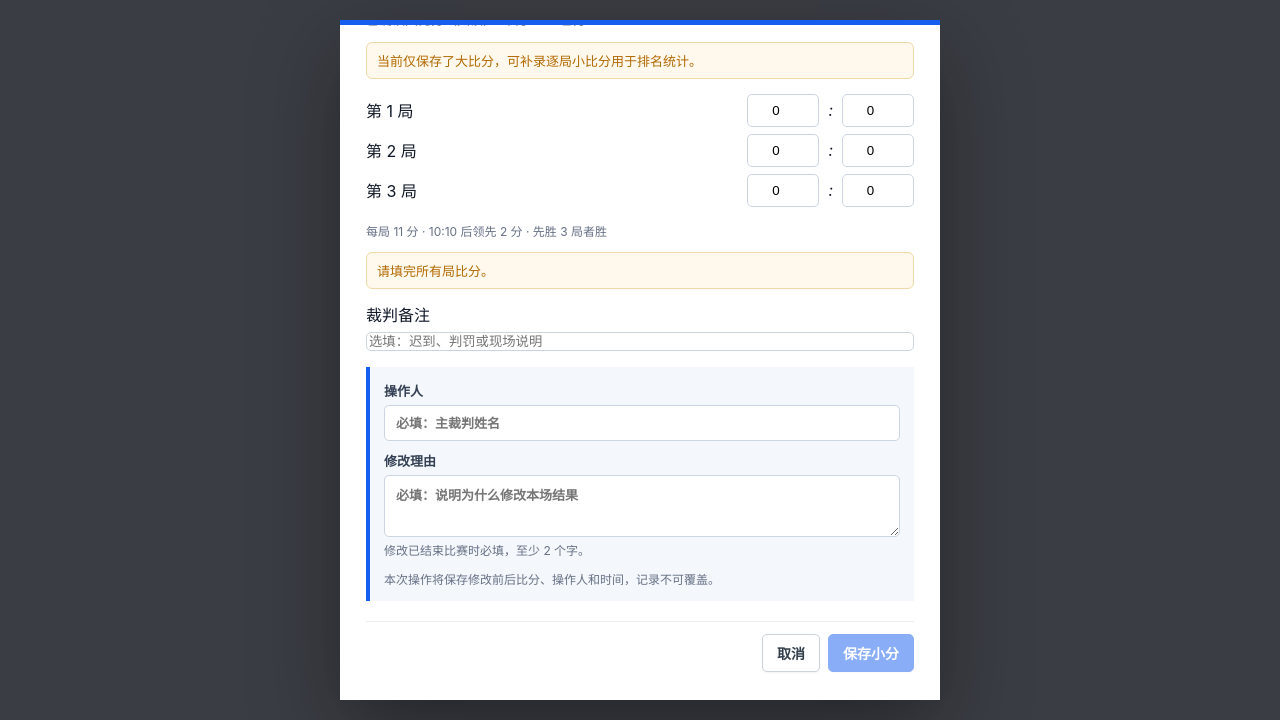
Test: 现场问题 C：修改理由必须让用户看懂“至少 2 个字” › 补录 / 修改逐局小分（detailMode）走同一条 revise 规则，提示与按钮名一致
(page scrolled)
Expected: the text "修改已结束比赛时必填，至少 2 个字。" is shown, [384, 543, 590, 558]
Type "漏" into the text box labelled "修改理由" at [642, 506], box [384, 475, 900, 537]
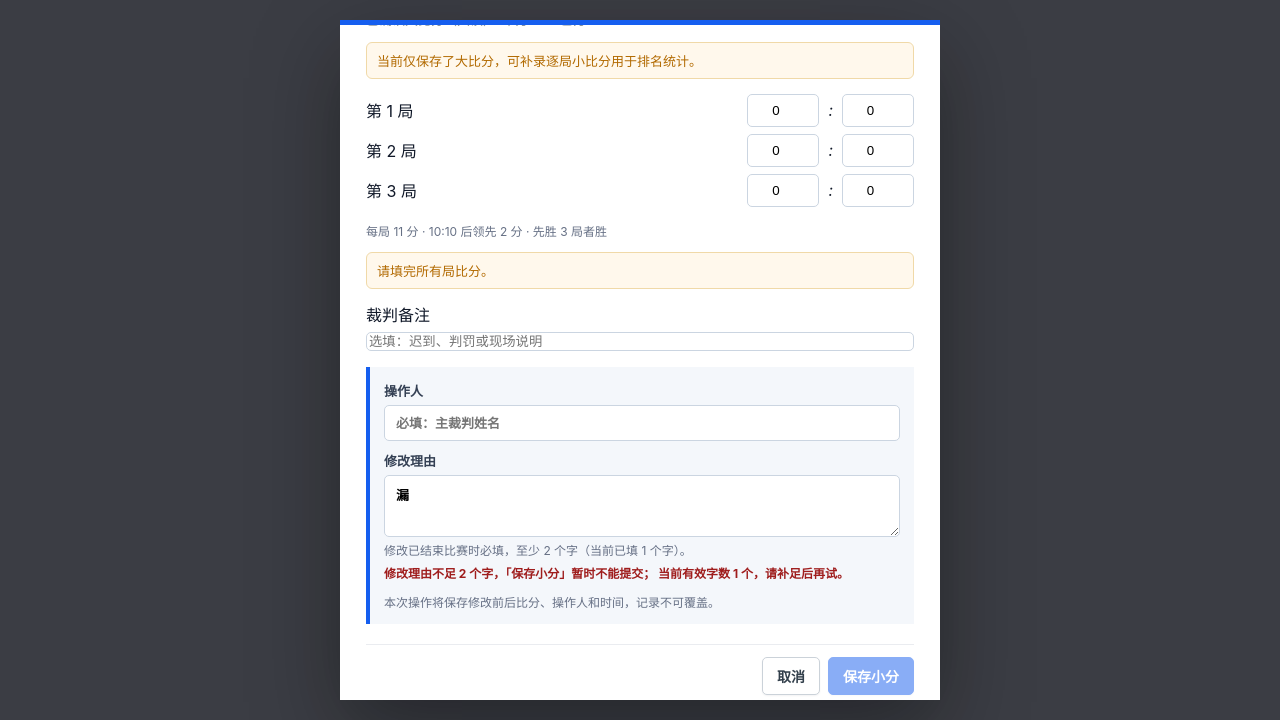
Now the text "修改理由不足 2 个字，「保存小分」暂时不能提交； 当前有效字数 1 个，请补足后再试。" is shown, box [384, 565, 900, 583]
